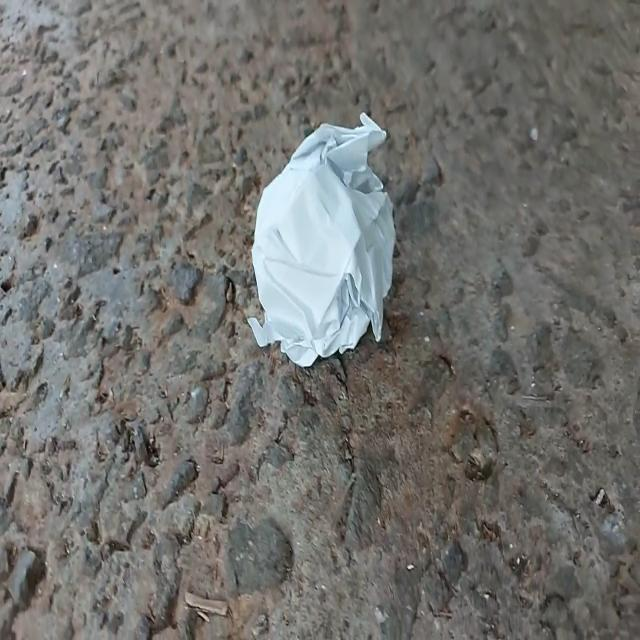Paper: (224, 93, 421, 385)
